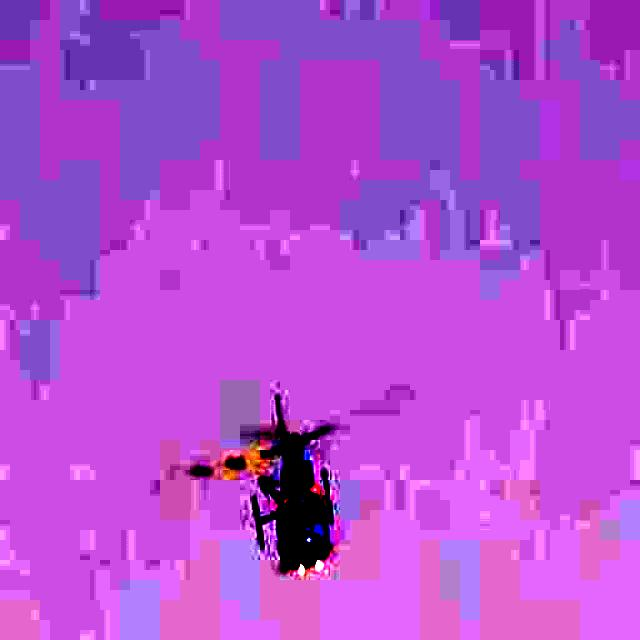drone: (148, 329, 416, 629)
